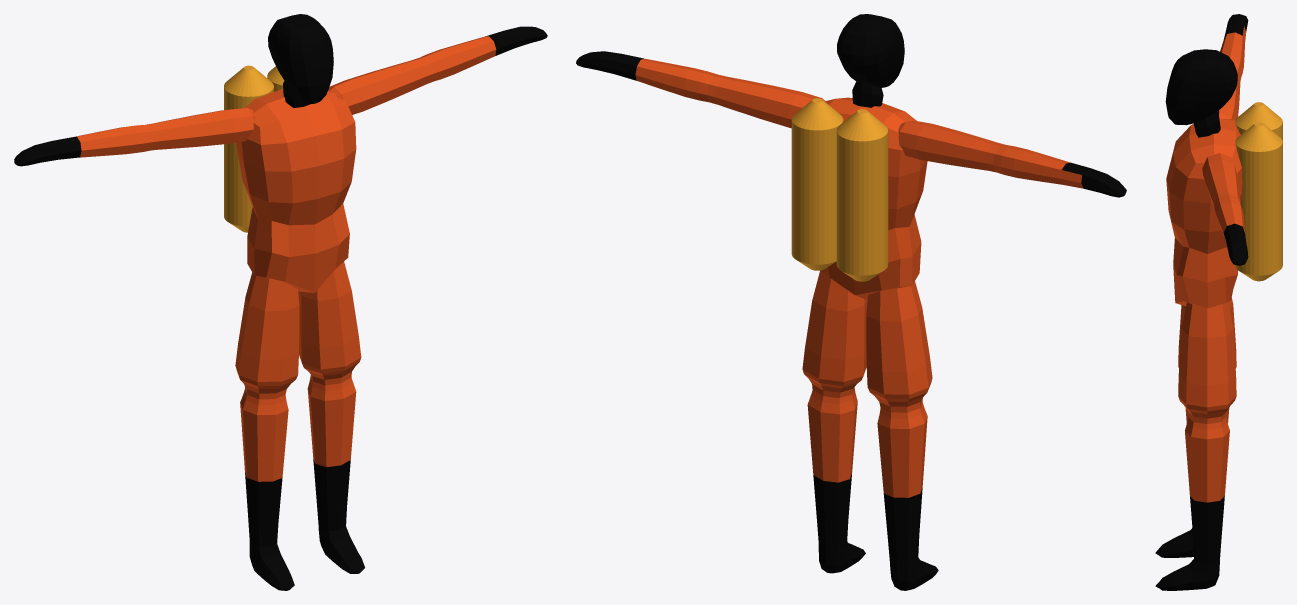
Rendered from Men.fbx.
3 renders of one model, left to right at view 1: azimuth 30°, elevation 25°; view 2: azimuth 150°, elevation 25°; view 3: azimuth 270°, elevation 25°, orthographic. The views are drawn at different scales.
Visible parts, largest first — view 1: Cube.002, Cube.009, Cube.005, Cube.008, Cube.006, Cube, Cylinder.001; view 2: Cube.009, Cube.005, Cylinder.001, Cylinder, Cube.002, Cube.008, Cube.006, Cube; view 3: Cube.005, Cube.002, Cylinder, Cube, Cube.006, Cube.008, Cube.009, Cylinder.001, Cube.001.
Boxes of the visible parts, x1,y1,x2,y2 form: Cube.002: (236, 89, 356, 292); Cube.009: (235, 272, 299, 590); Cube.005: (298, 262, 364, 573); Cube.008: (14, 108, 256, 166); Cube.006: (328, 26, 547, 114); Cube: (268, 14, 333, 104); Cylinder.001: (224, 65, 273, 232); Cube.009: (866, 281, 938, 590); Cube.005: (802, 270, 867, 573); Cylinder.001: (836, 109, 888, 281); Cylinder: (791, 98, 843, 270); Cube.002: (821, 97, 927, 299); Cube.008: (898, 120, 1126, 197); Cube.006: (576, 51, 824, 128); Cube: (837, 14, 904, 87); Cube.005: (1155, 302, 1236, 590); Cube.002: (1166, 118, 1242, 308); Cylinder: (1235, 122, 1282, 281); Cube: (1165, 49, 1237, 125); Cube.006: (1202, 153, 1248, 265); Cube.008: (1219, 14, 1248, 120); Cube.009: (1155, 298, 1236, 557); Cylinder.001: (1235, 102, 1282, 141); Cube.001: (1193, 110, 1220, 137).
Size of the model in its own units: 583 by 572 by 128.
